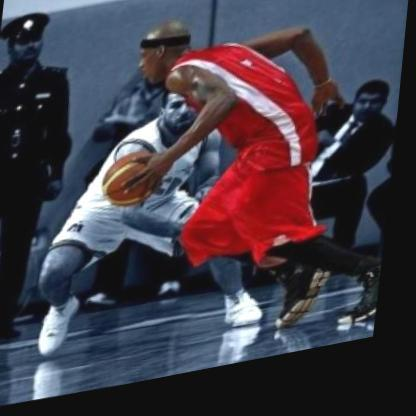basketball: (104, 149, 174, 217)
